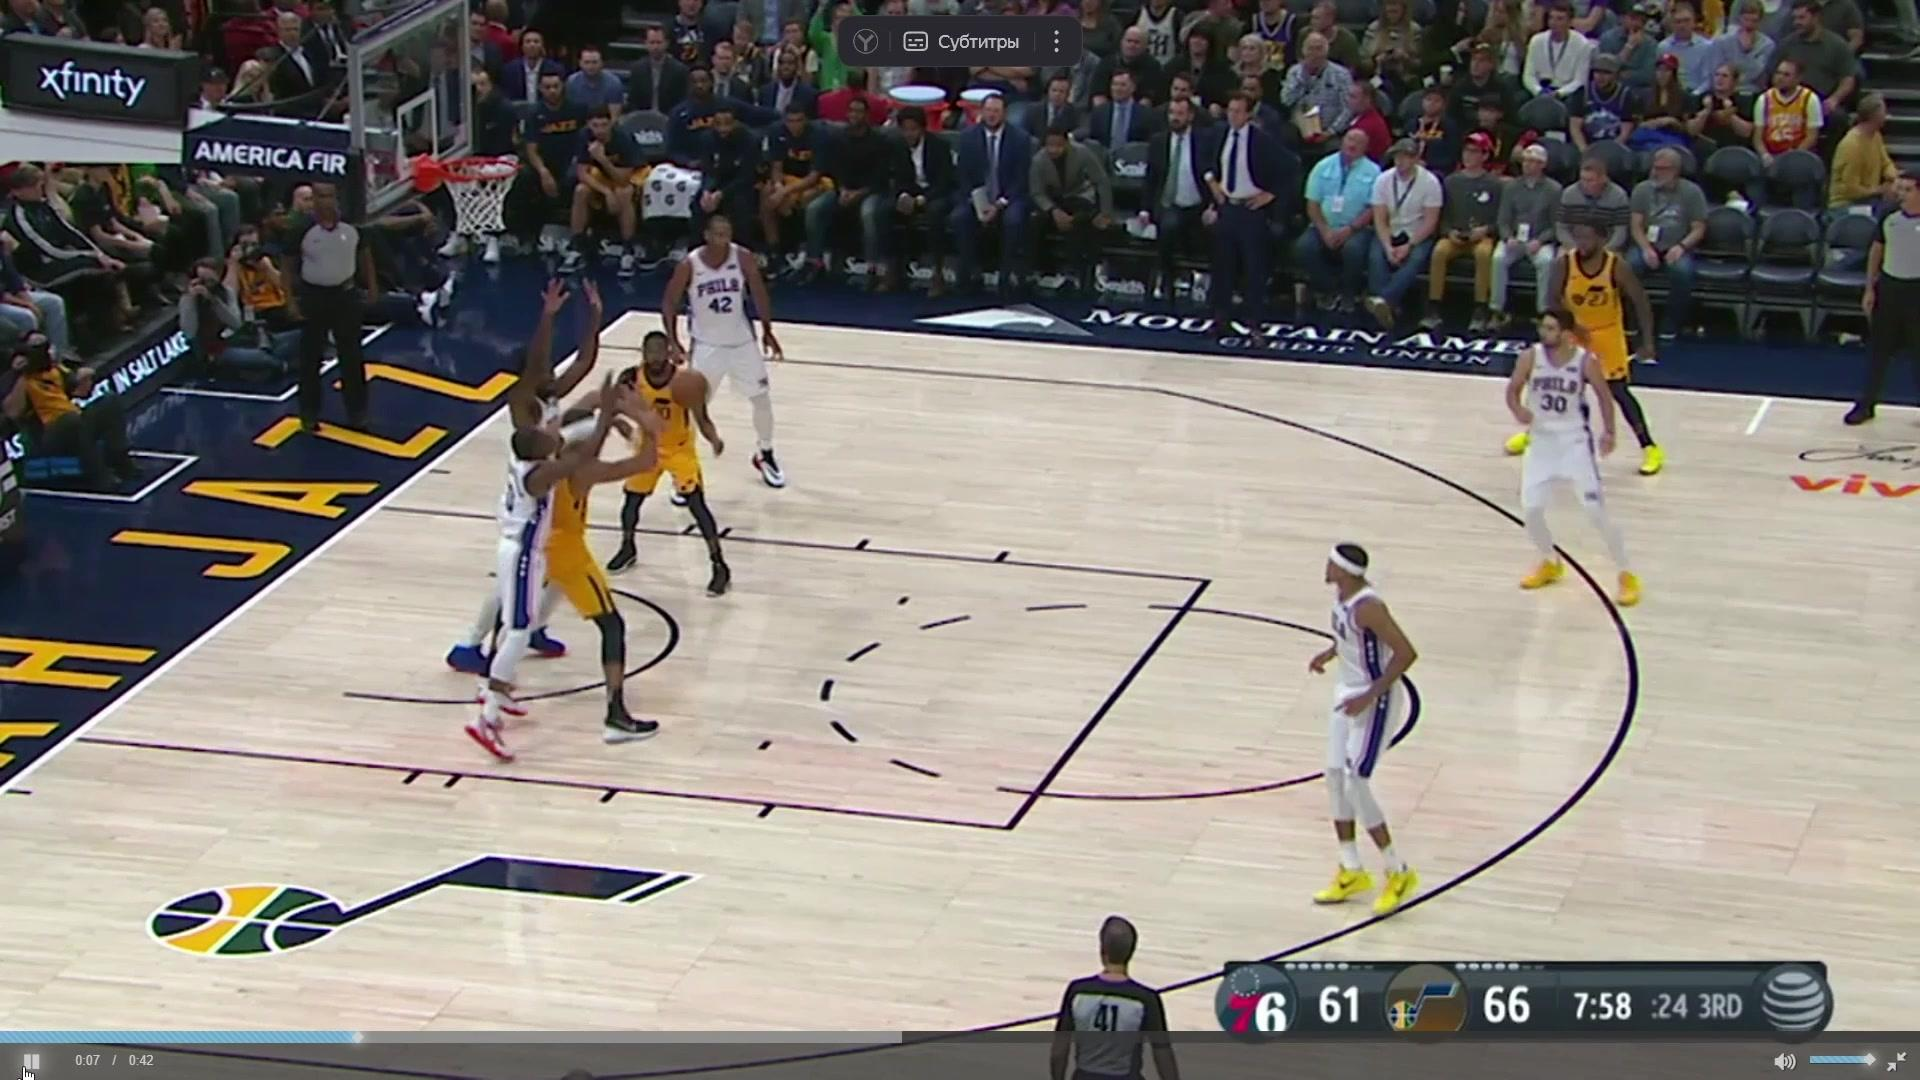no_foul: (468, 353, 699, 761)
